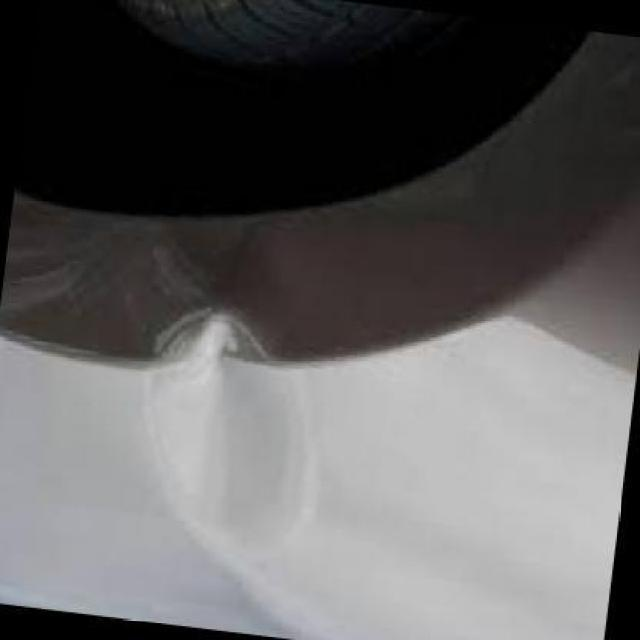dent: (146, 314, 312, 557)
